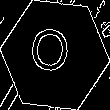O_S: (33, 28, 77, 82)
